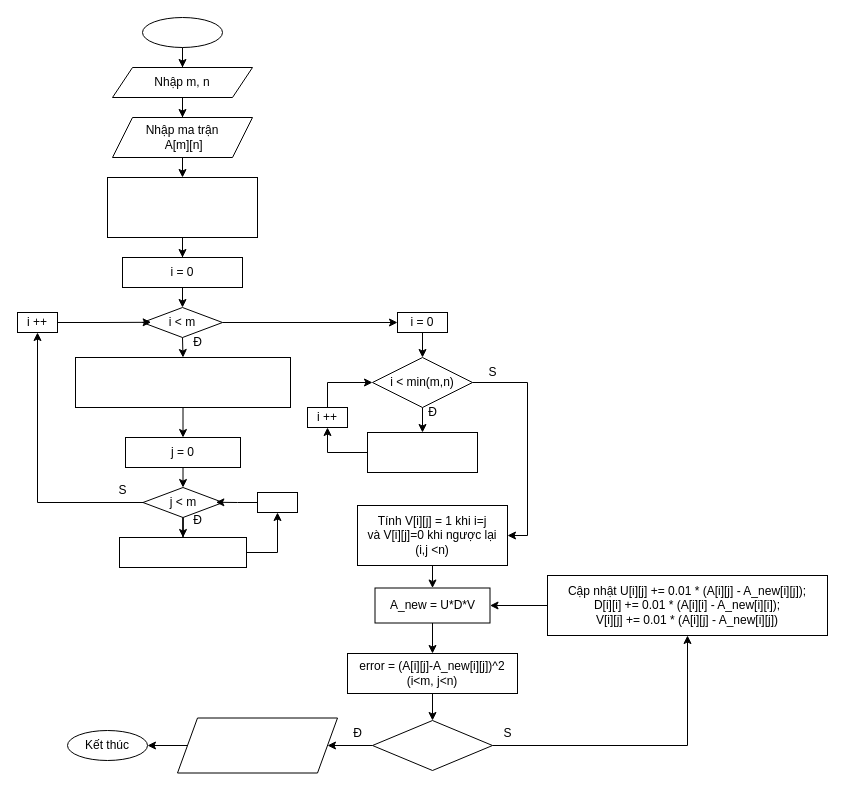
The diagram is 845 pixels wide and 791 high, and some of its shapes have lost their labels. The shapes that lost their labels are listed below. From the top down, each one's centre as x and y in pixels, then its label:
the point at 182,32: Bắt đầu
the point at 182,207: Khởi tạo ma trận U[m][m], D[n][m], V[n][n] với các giá trị bằng 0
the point at 182,382: normU = norm(A[i]) với norm(A[i]) = sqrt(A[i,1]^2+A[i,2]^2+...+A[i,m]^2)
the point at 422,452: D[i][i] = norm(A[i])
the point at 277,502: j ++
the point at 182,552: U[i][j] = A[i][j] / normU
the point at 257,745: In ra kết quả ma trận U, V, D
the point at 432,745: error < 1e-5
